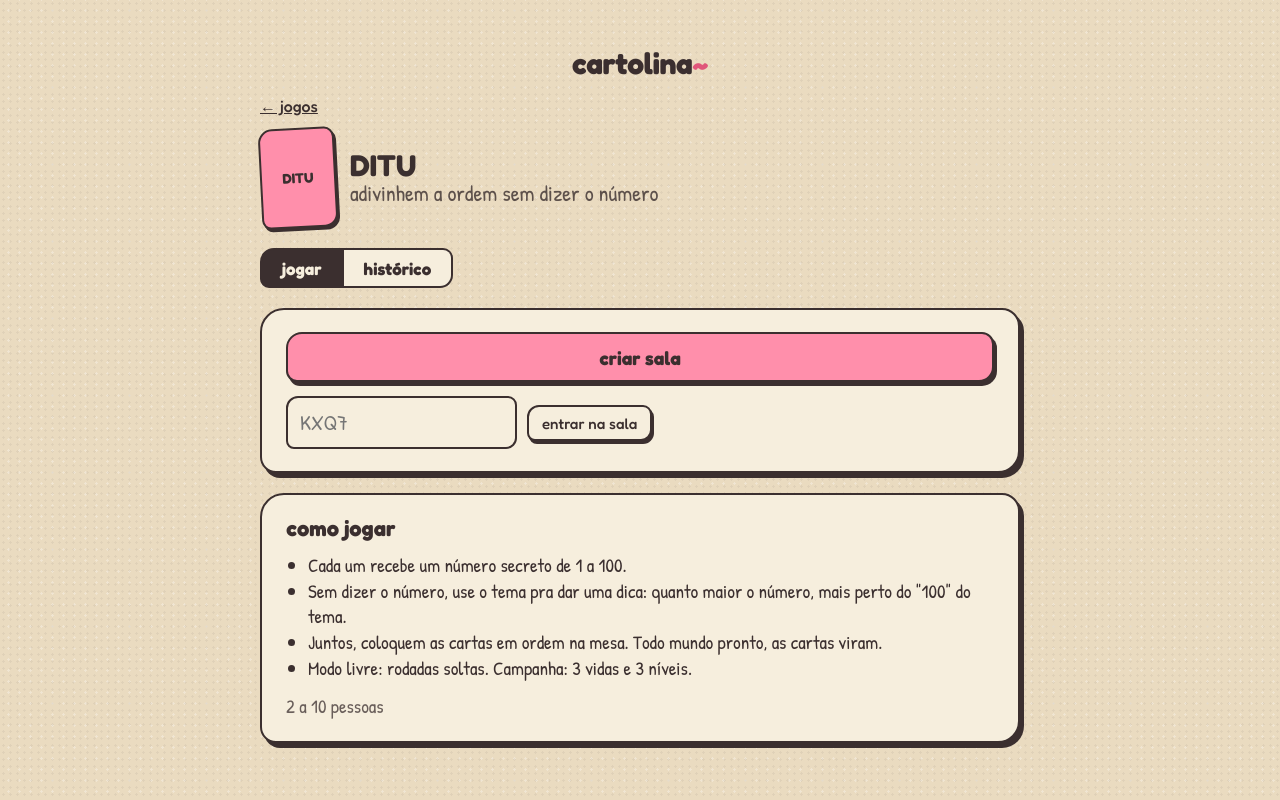
GamePage › aba jogar › pedidos demais (429): pede calma
What coordinates should you click on to do the following:
click the button "criar sala"
I would click on:
 (640, 357)
Its box is x1=286 y1=332 x2=994 y2=382.
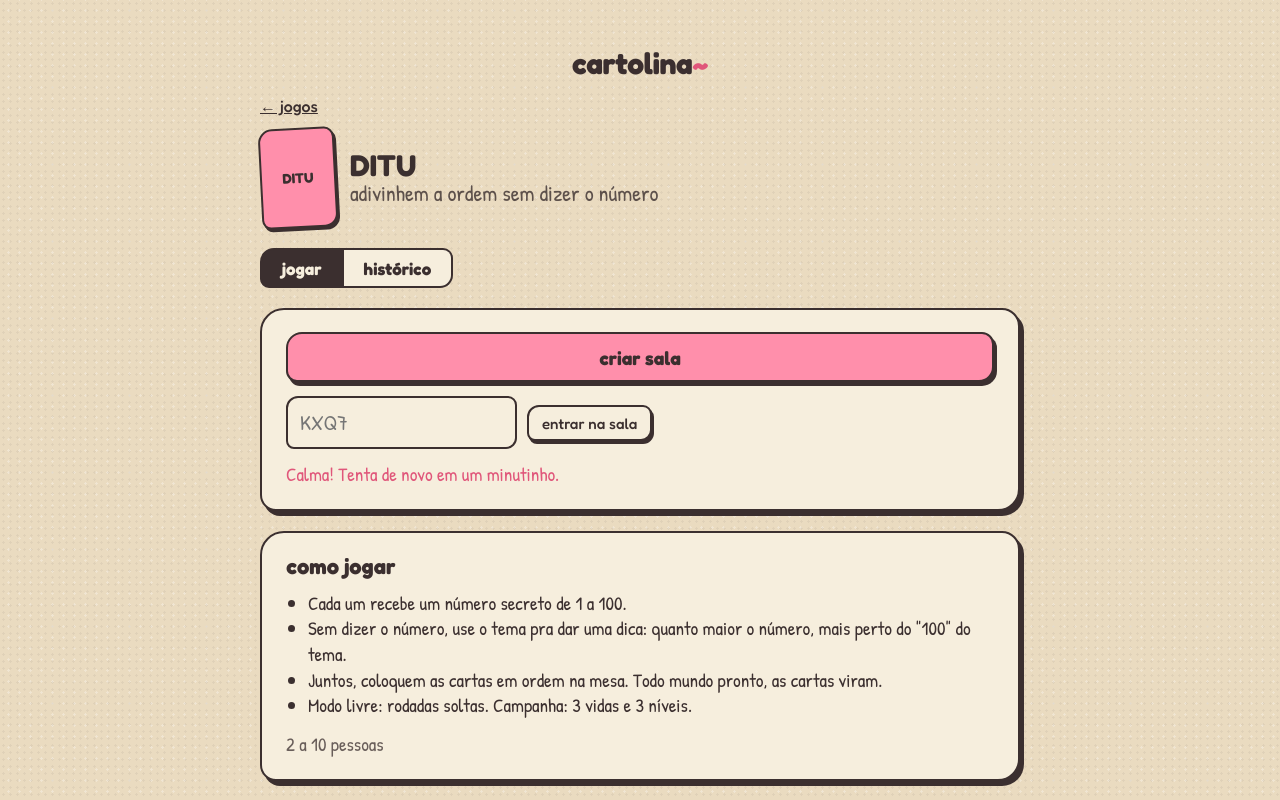
Expected: the message reads "Calma! Tenta de novo em um minutinho.", x1=286 y1=461 x2=559 y2=487
